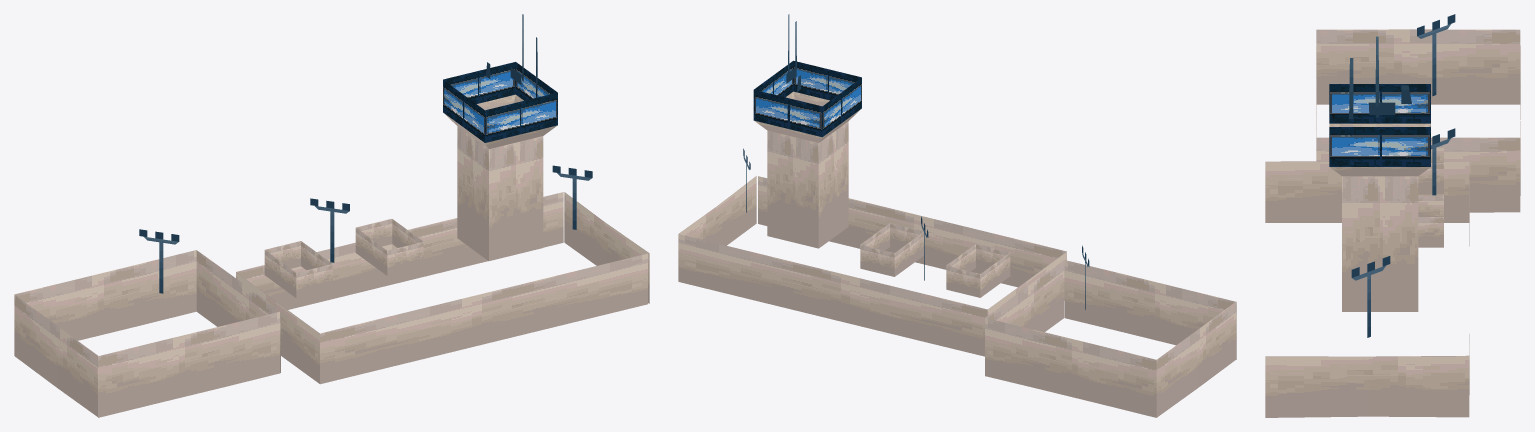
3 renders of one model, left to right at view 1: azimuth 30°, elevation 25°; view 2: azimuth 150°, elevation 25°; view 3: azimuth 270°, elevation 25°, orthographic. The views are drawn at different scales.
Parts seen in each view (by area): view 1: obj-176; view 2: obj-176; view 3: obj-176.
Part boxes in pixels (left/top/right/bottom): obj-176: left=14, top=14, right=649, bottom=417; obj-176: left=678, top=14, right=1236, bottom=417; obj-176: left=1265, top=14, right=1520, bottom=417.
Bounding box in the file's own units: 16.77 × 8.33 × 5.77.
1 material, 1 textured.
